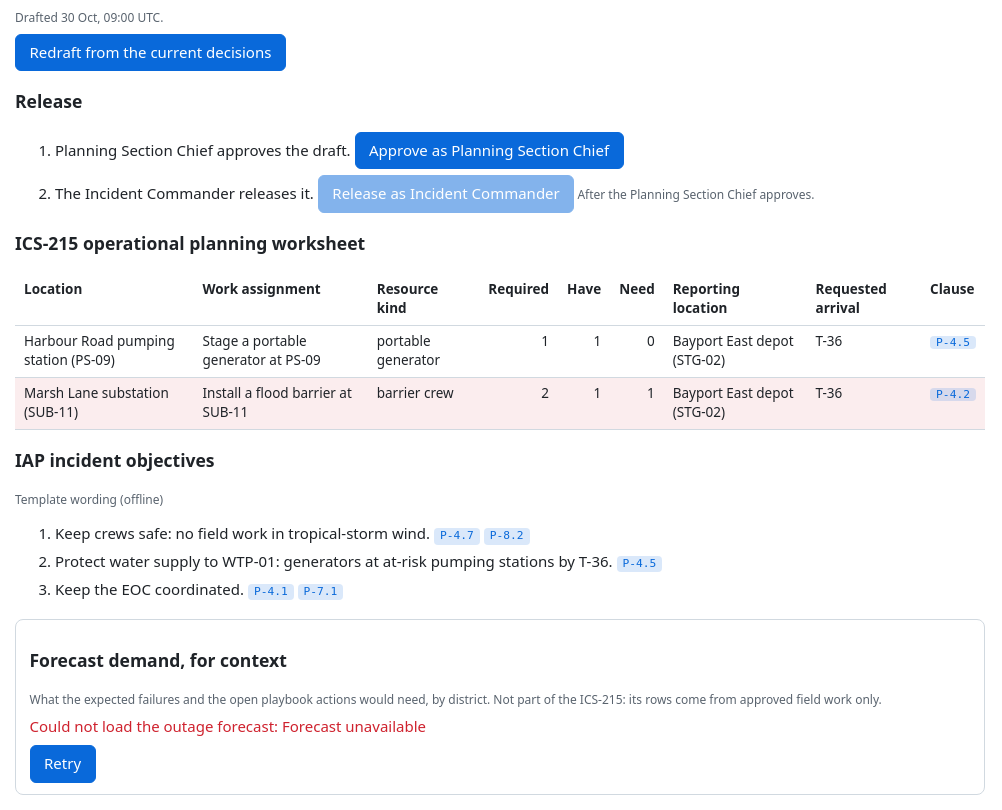
Test: a failed forecast offers a retry and leaves the worksheet alone
(page scrolled)
Expected: the message shows "Forecast unavailable", 282,716 -> 426,736
Expected: the table named "ics-215" is shown, 15,274 -> 985,430
Click the button "Retry".
click(63, 764)  # box 30,746 -> 96,783
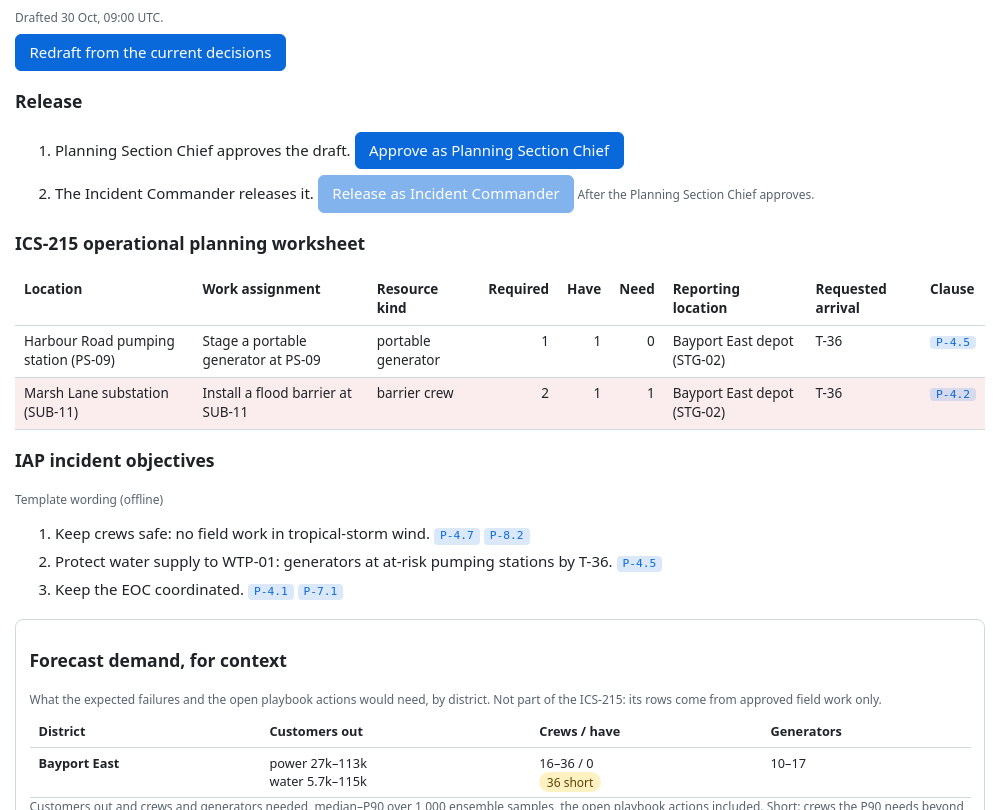
Now the table named "Outage forecast by district, advisory 4" is shown, box 30,716 -> 970,798
